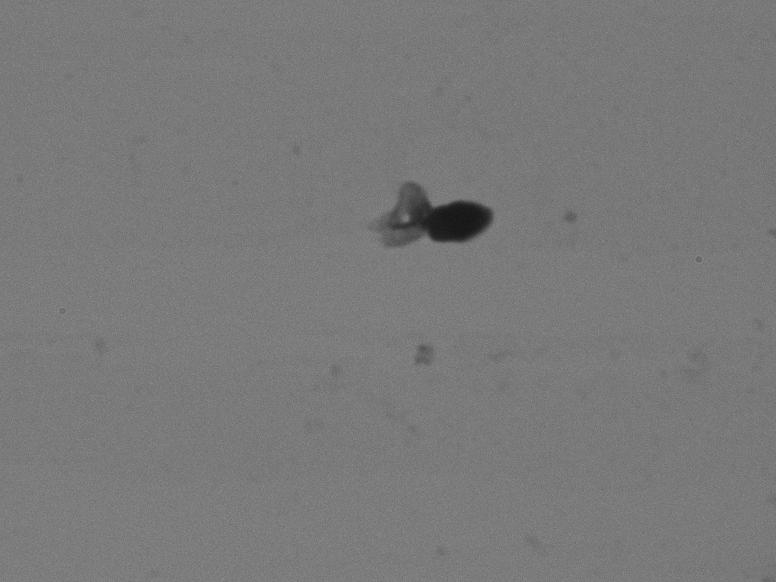Abnormal: (316, 136, 546, 305)
